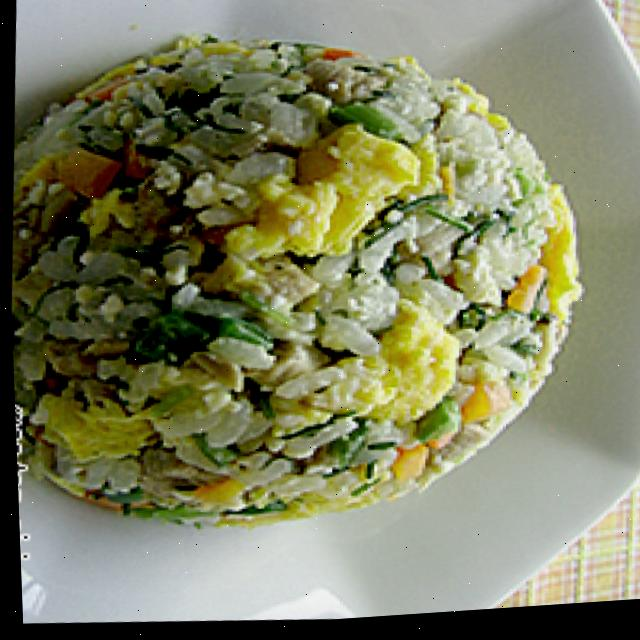米饭主食: (21, 5, 610, 569)
